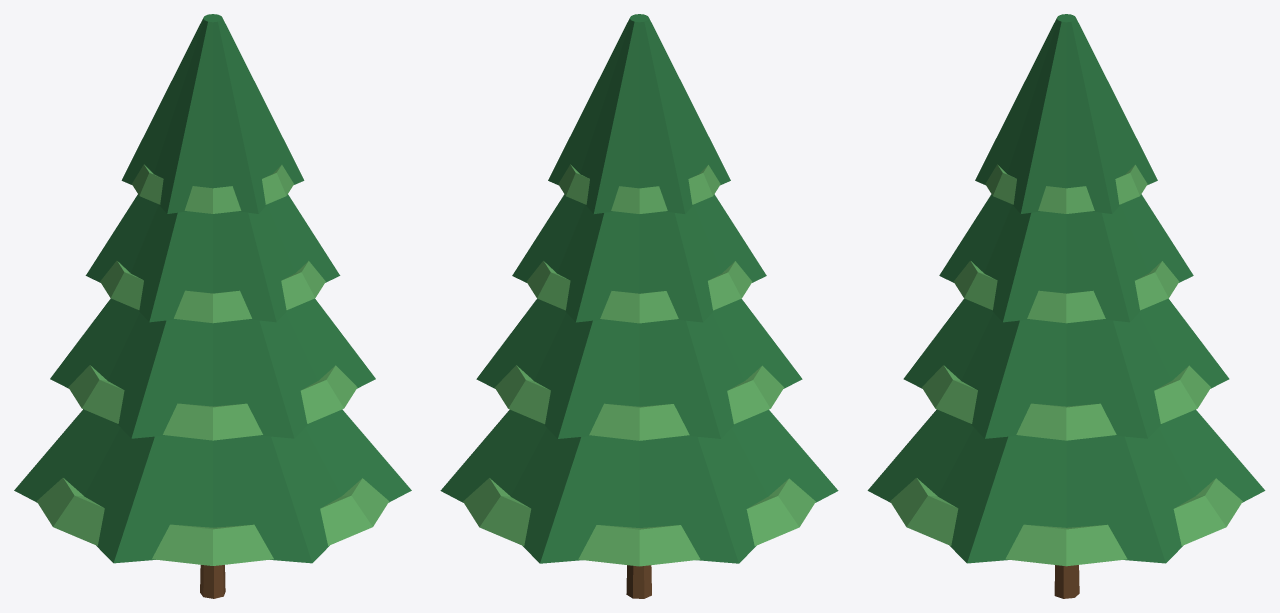
The model's file is nat_pine_a_v01.glb.
The picture shows the model from 3 angles, left to right: view 1: azimuth 30°, elevation 25°; view 2: azimuth 150°, elevation 25°; view 3: azimuth 270°, elevation 25°; orthographic projection.
Visible parts, largest first — view 1: pine; view 2: pine; view 3: pine.
Part boxes in pixels (box(x1,y1,x2,y2)): pine: box(14, 14, 411, 598); pine: box(440, 14, 838, 598); pine: box(867, 14, 1265, 598).
Bounding box in the file's own units: 3.49 × 6 × 3.76.
